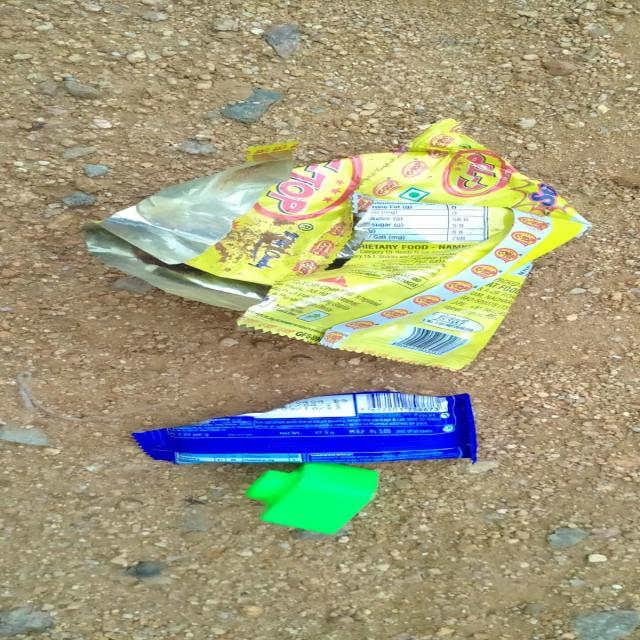dry: (58, 120, 612, 377), (69, 389, 581, 469), (195, 478, 435, 538)
